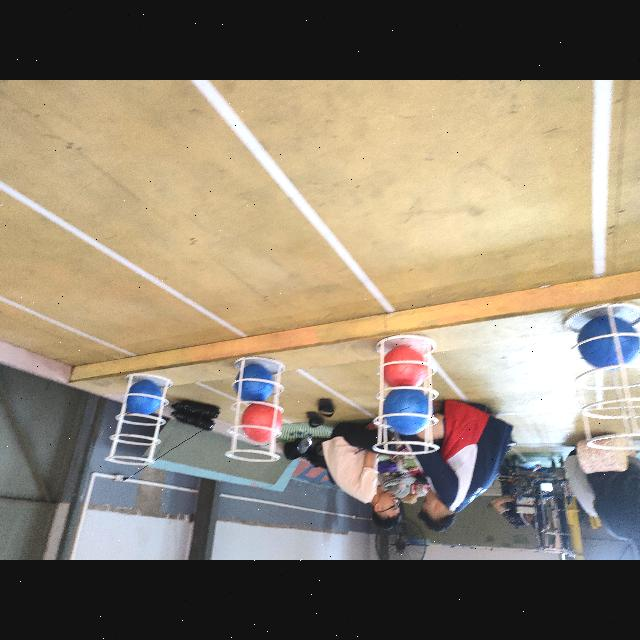B: (578, 316, 640, 370), (384, 386, 431, 434), (234, 366, 274, 402), (127, 380, 161, 416)
R: (380, 346, 426, 388), (243, 402, 283, 442)
